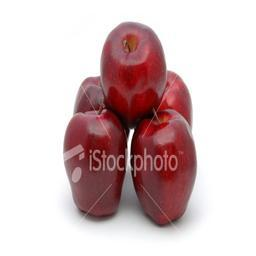apple: (89, 21, 170, 123), (130, 108, 198, 227), (63, 108, 127, 216), (158, 69, 192, 126), (73, 75, 106, 113)
